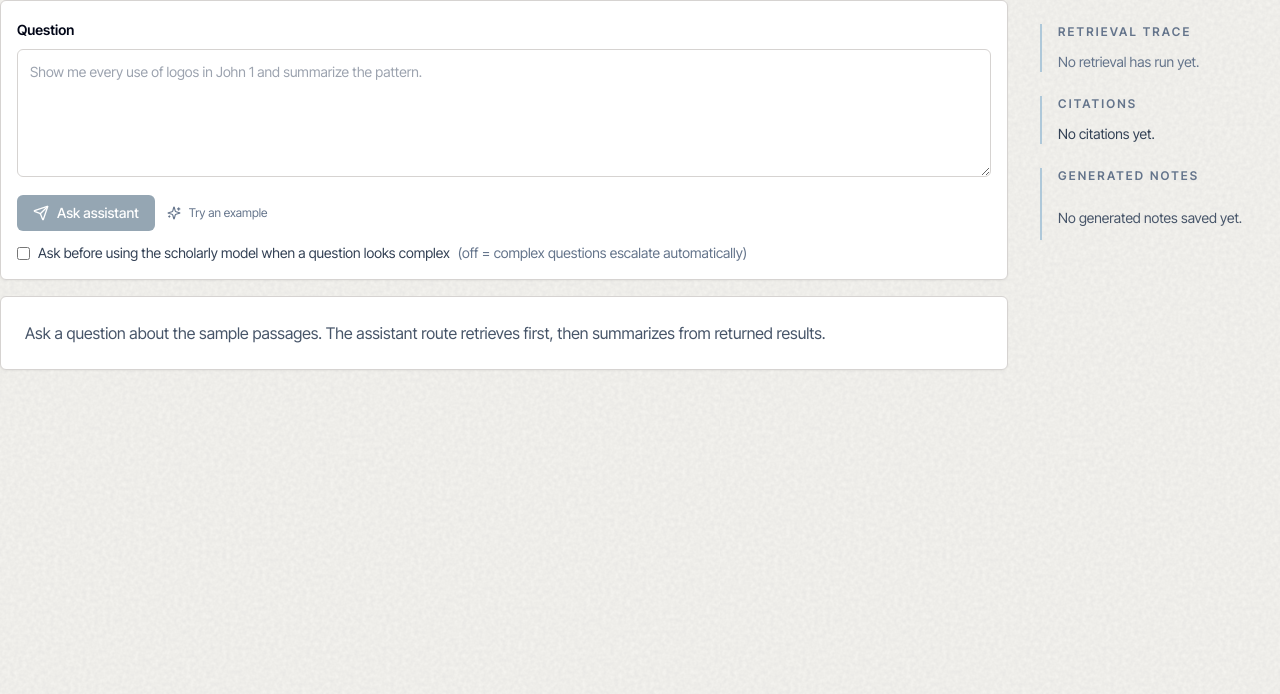
Scenario: AiAssistant grounding refusal › shows the withheld banner when grounded is false
Replace the text in the text box with placeholder "Show me every use" with "bad question" at (504, 113), box [17,49,991,177]
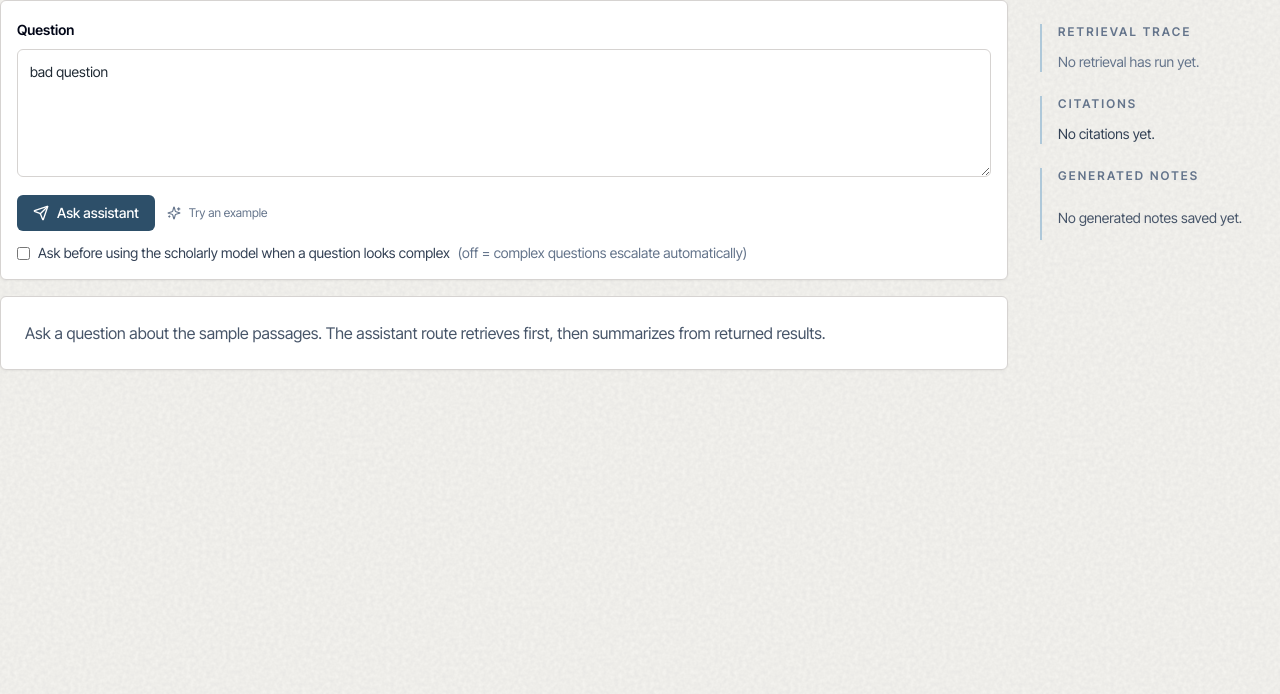
Click the button "Ask assistant".
click(86, 213)  # box [17,195,155,231]
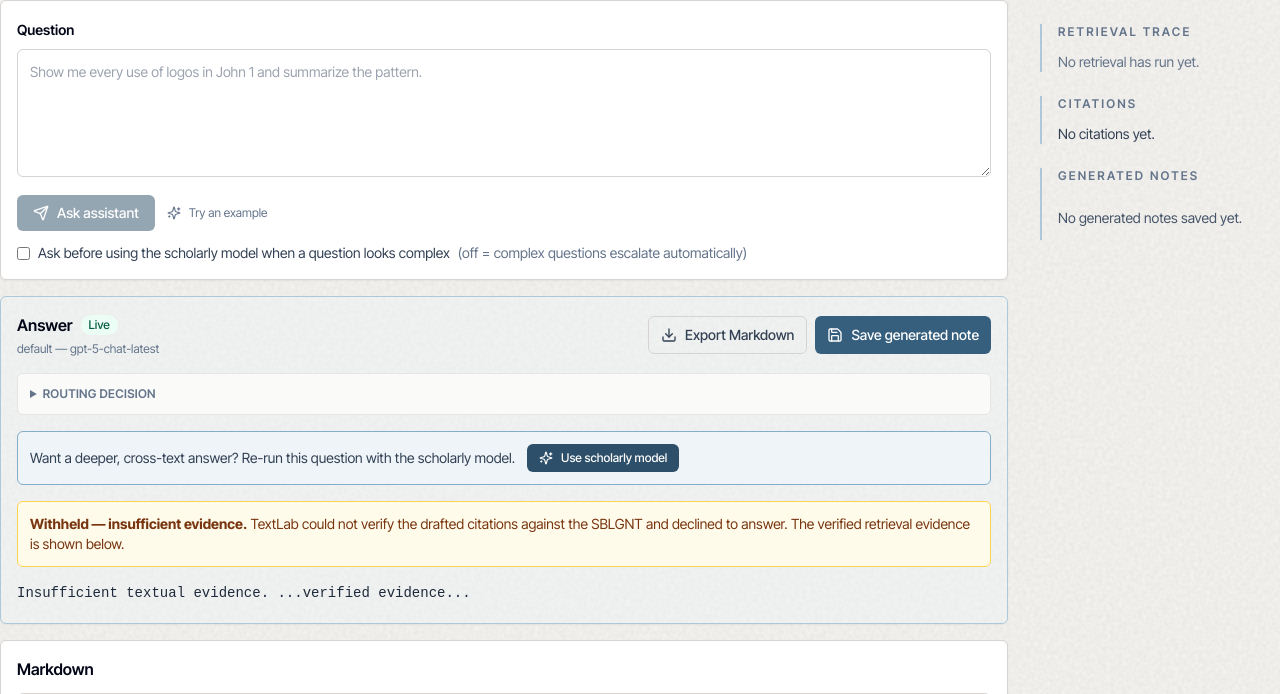
expect the text "Withheld — insufficient evidence." is shown: met, box [30,515,247,532]
